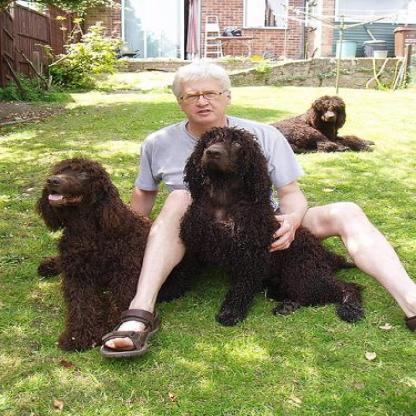Irish_water_spaniel: (158, 122, 362, 326), (21, 151, 154, 350), (266, 92, 376, 154)
